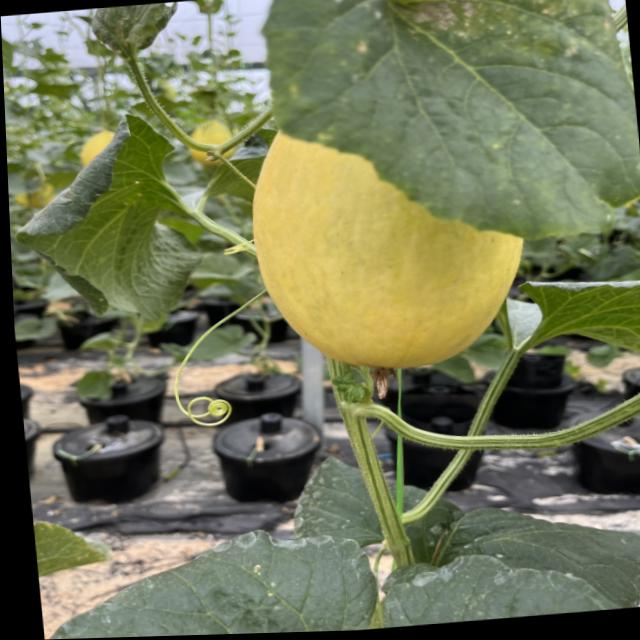downy mildew: (36, 510, 390, 640), (376, 504, 640, 628)
